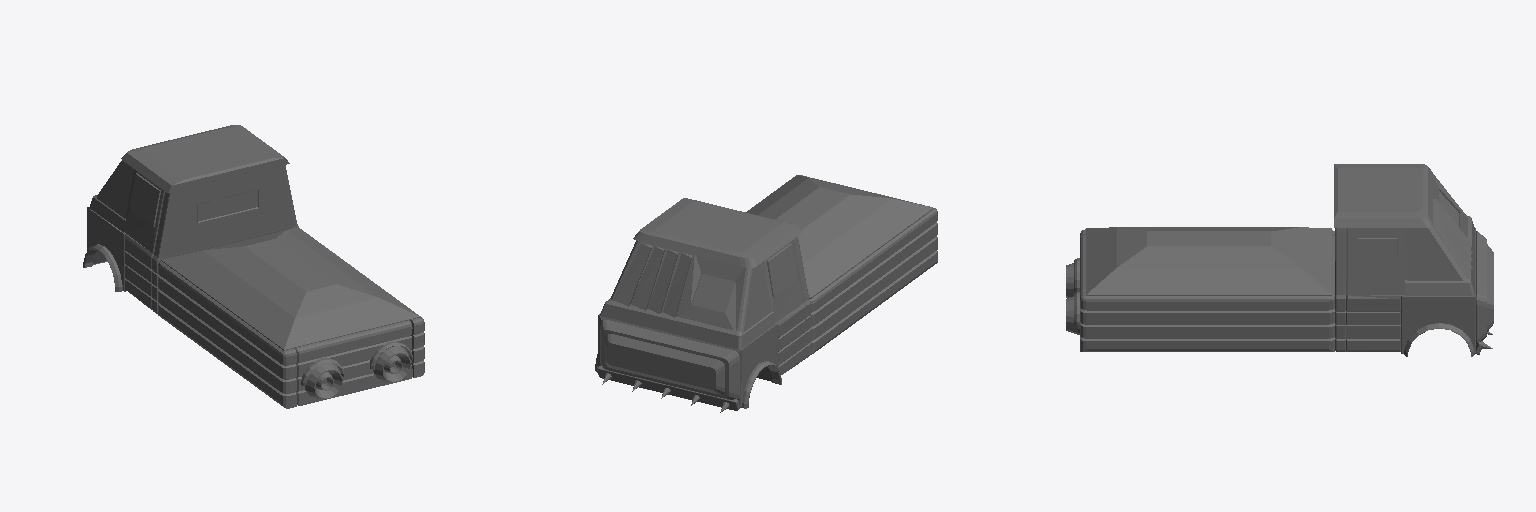
Rendered from flatbed_chassis.obj.
3 renders of one model, left to right at view 1: azimuth 30°, elevation 25°; view 2: azimuth 150°, elevation 25°; view 3: azimuth 270°, elevation 25°, orthographic.
Visible parts, largest first — view 1: Box012_Untitled.019; view 2: Box012_Untitled.019; view 3: Box012_Untitled.019.
Boxes of the visible parts, <box> form: Box012_Untitled.019: <box>83,125,424,408</box>; Box012_Untitled.019: <box>595,175,937,412</box>; Box012_Untitled.019: <box>1066,164,1493,356</box>.
Size of the model in its own units: 3.07 by 2.5 by 7.36.